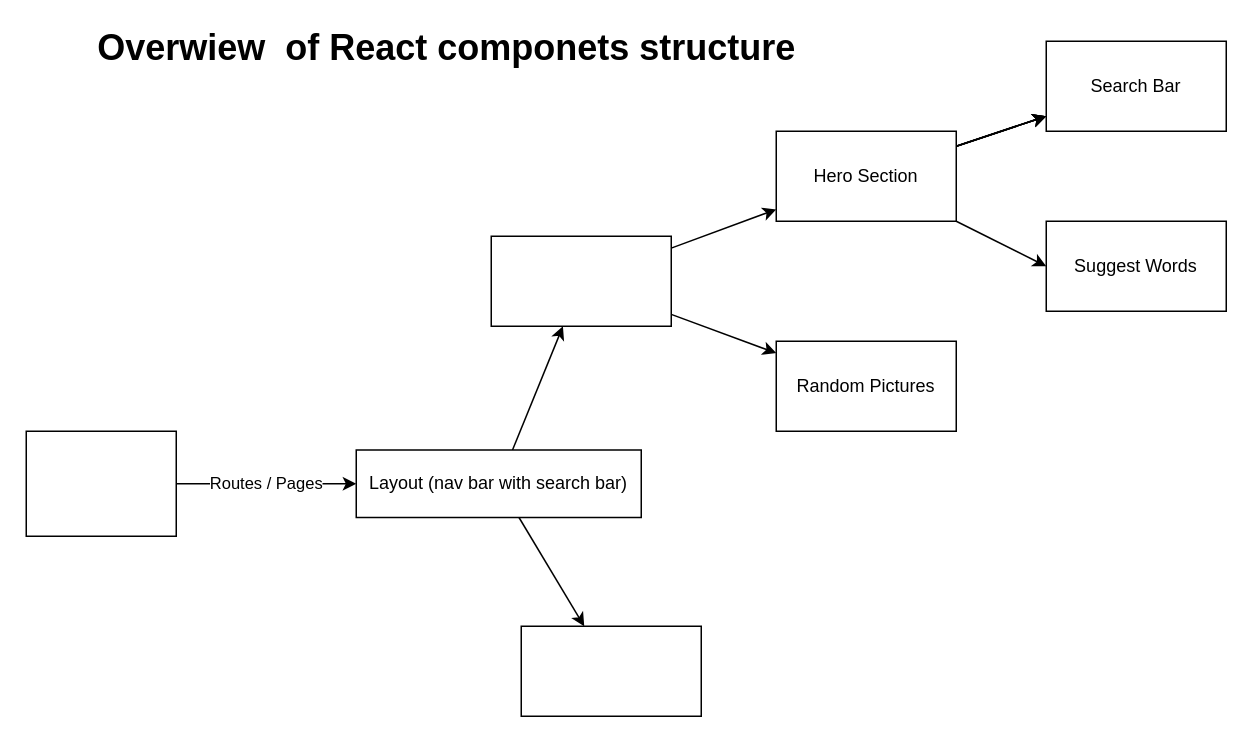
Some shapes in this 1253 by 743 pixel diagram are drawn without their labels. The shapes that lost their labels are listed below. From the top down, each one's box as (x1, y1, x2, y2) in pixels, then its label:
(490, 235, 671, 326): Home / Index
(25, 430, 176, 536): App
(520, 625, 701, 716): Browse pictures
